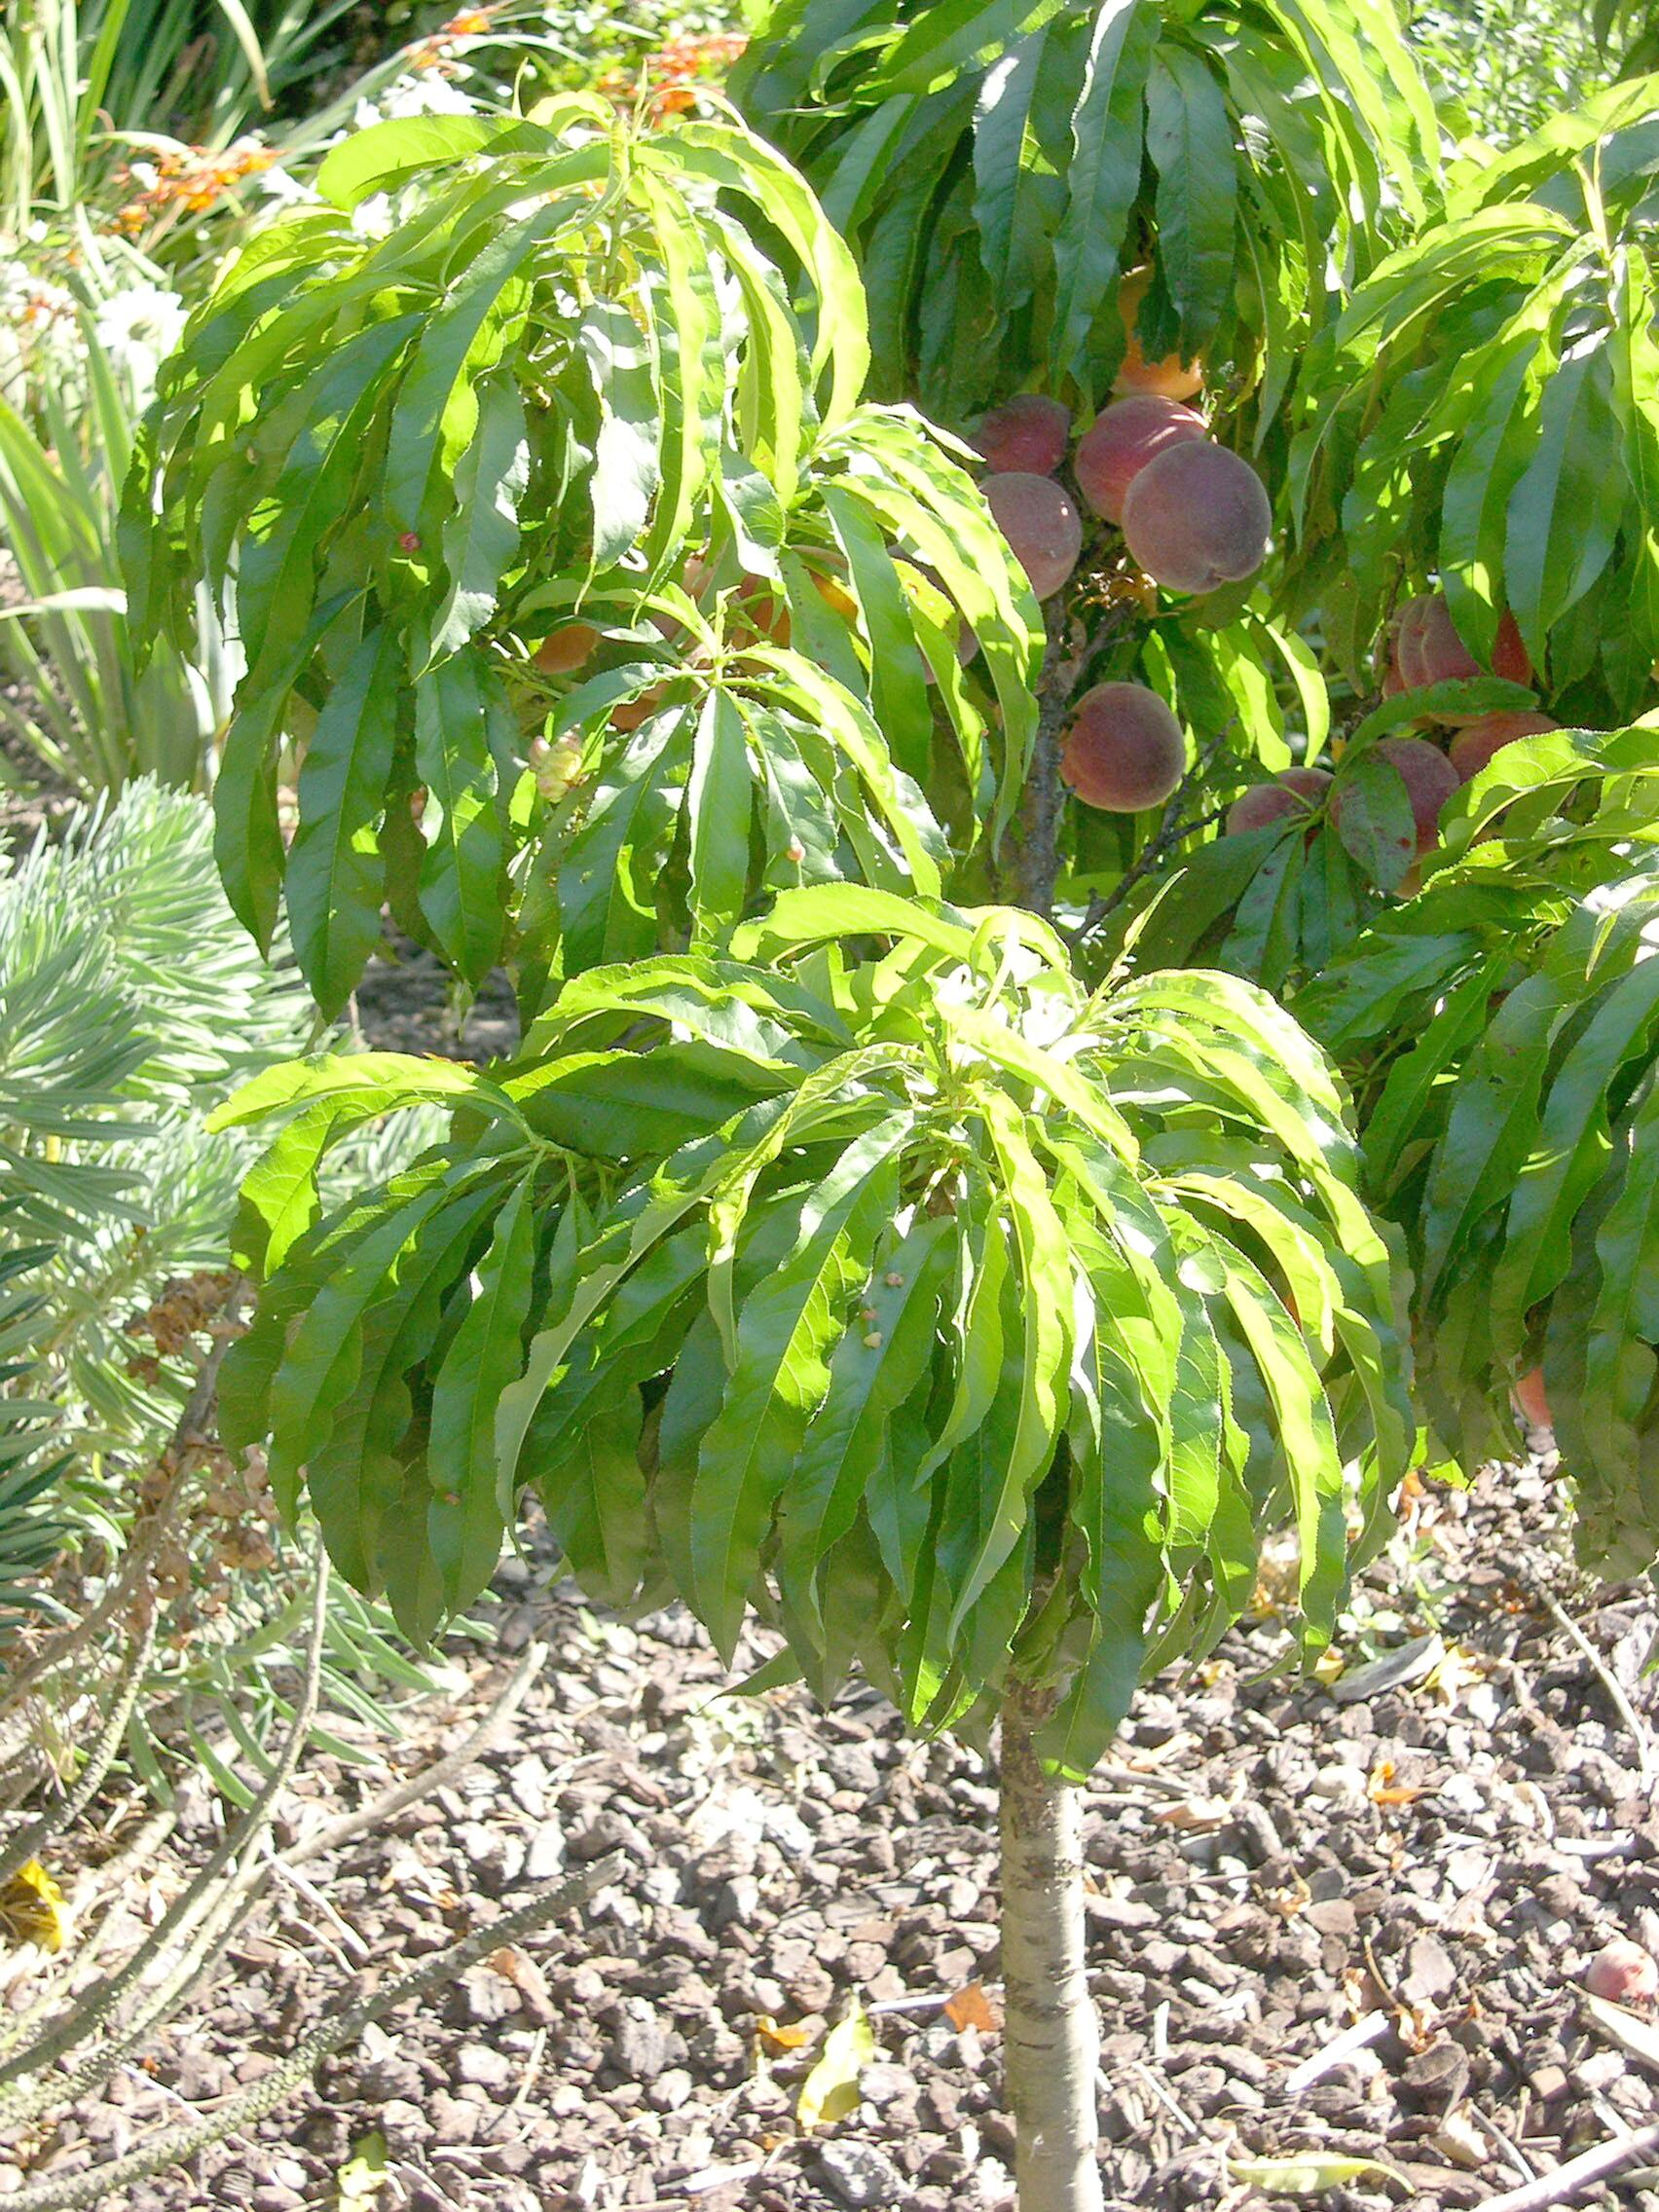Peach leaf: (687, 1163, 864, 1686), (1476, 972, 1647, 1385), (254, 1188, 457, 1534), (1211, 1247, 1358, 1679), (275, 631, 408, 1036), (1033, 3, 1173, 381), (969, 23, 1086, 320), (425, 632, 507, 1019), (213, 657, 310, 975), (1439, 336, 1530, 676), (1143, 54, 1234, 368)
